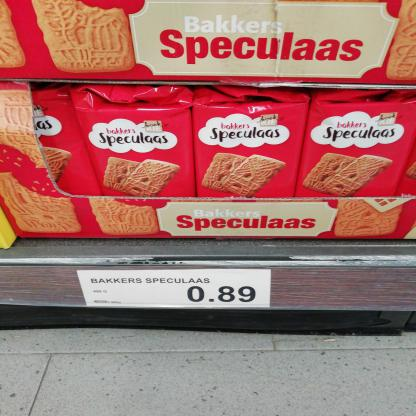prtg: (77, 270, 273, 308)
